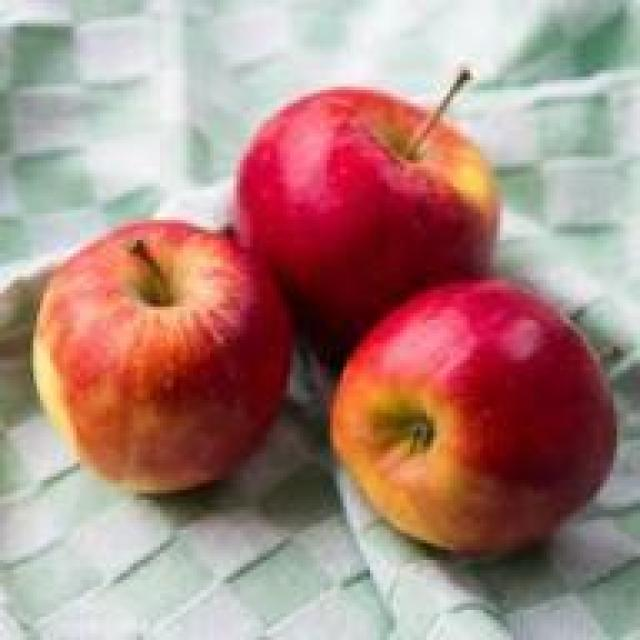apple: (320, 276, 620, 556), (23, 217, 287, 493), (233, 93, 507, 330)
